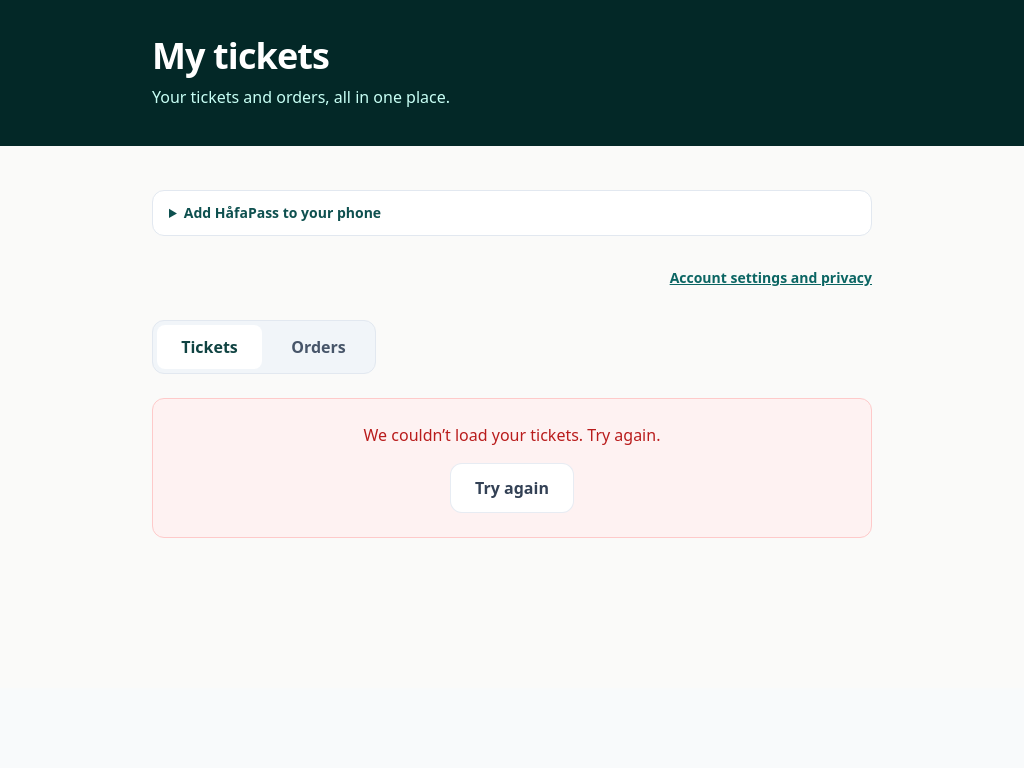
Test: MyTicketsPage expired session › treats a failed token refresh as a retryable load error, not an expired session
The image size is (1024, 768).
Check: the message shows "We couldn’t load your tickets. Try again.", box [364,424,660,446]
What coordinates should you click on to do the following:
click the button "Try again"
I would click on:
 (512, 488)
Its box is [450,463,574,513].
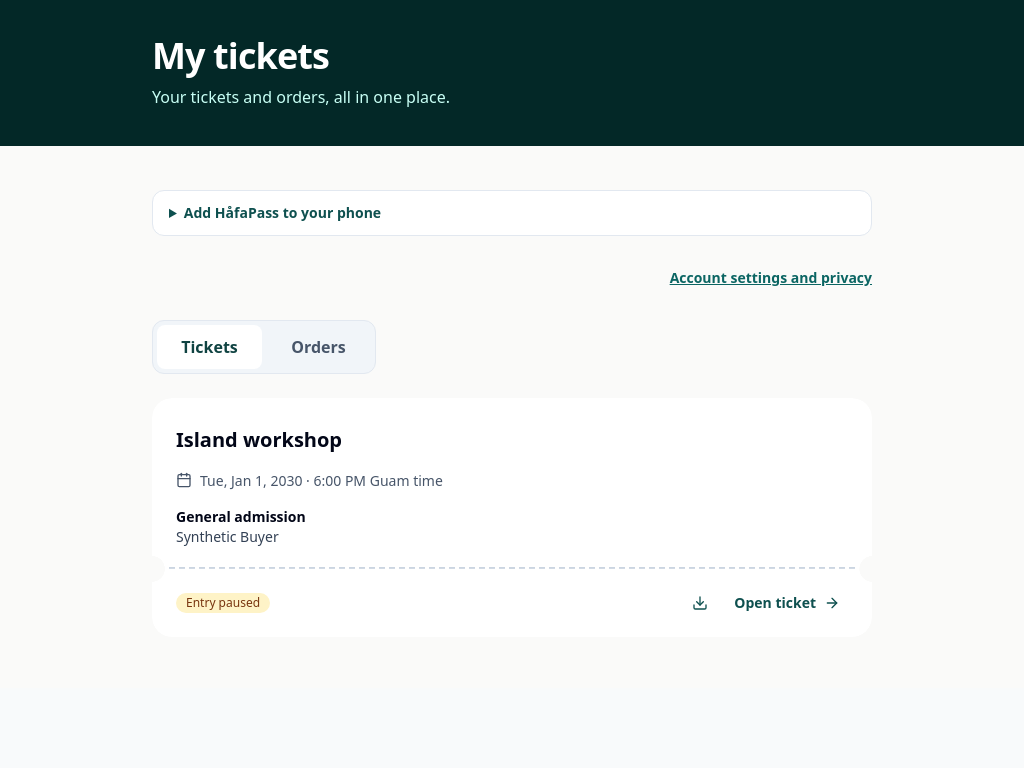
Check: the link "Island workshop" is shown, box [176,418,342,462]
